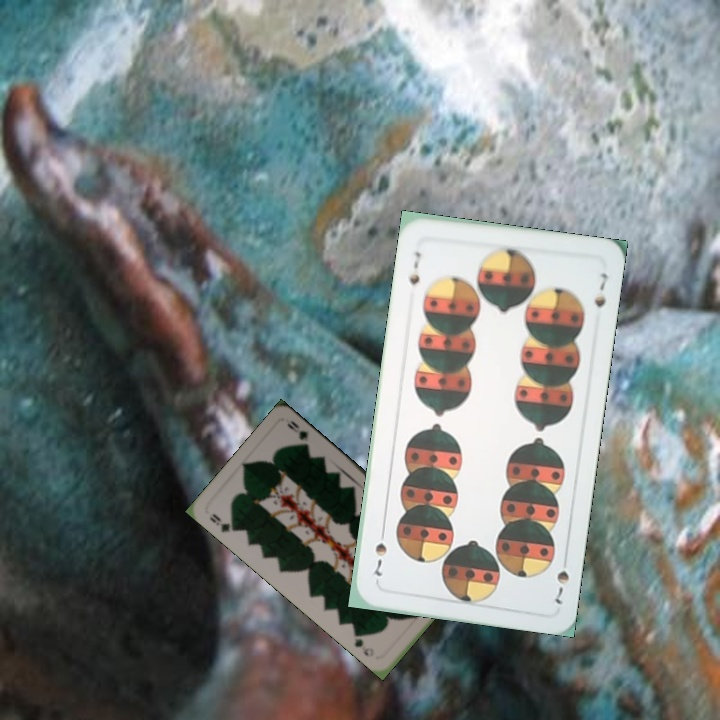G9: (205, 510, 241, 535)
S7: (550, 566, 572, 607), (405, 247, 423, 287)
